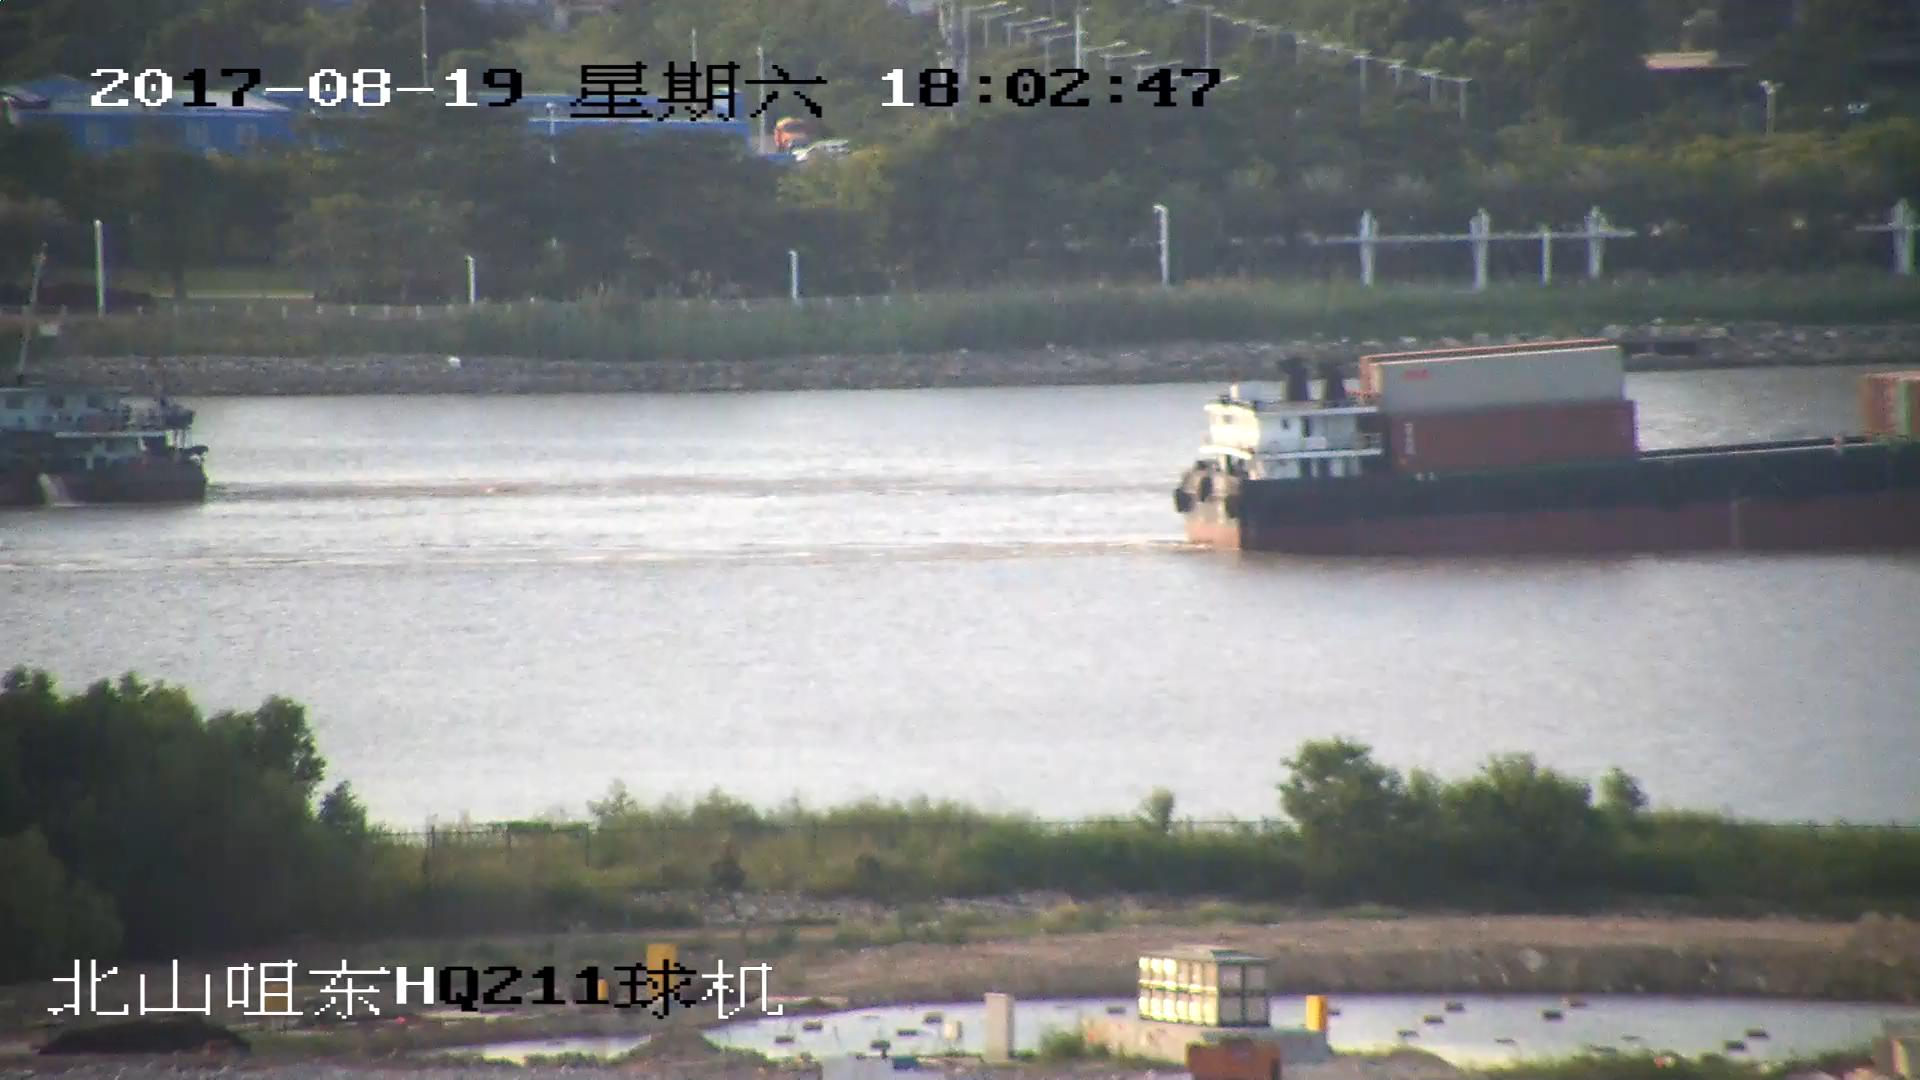container ship: (1169, 346, 1920, 560)
ore carrier: (1, 385, 212, 503)
